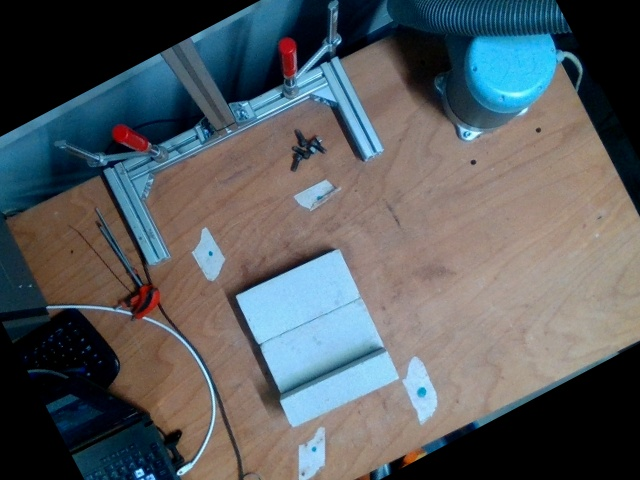brick-side: (277, 350, 402, 429)
